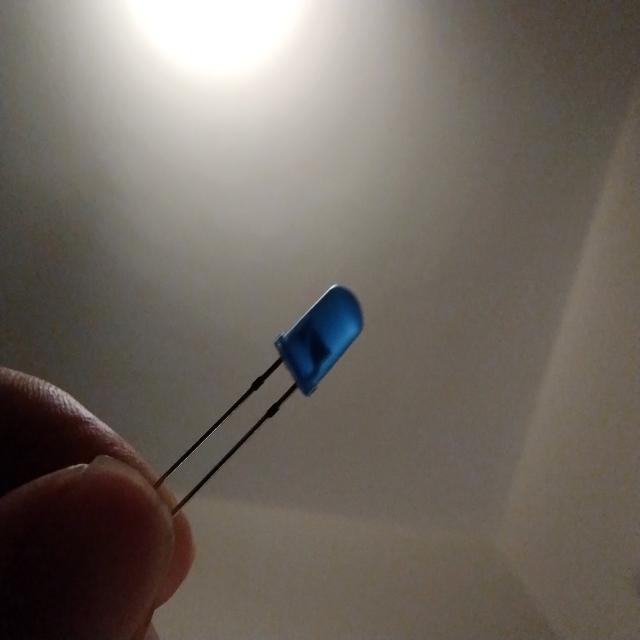blue_led: (272, 281, 364, 397)
